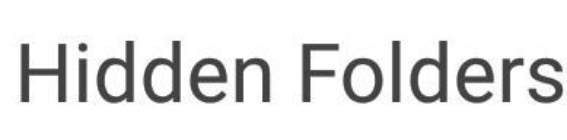TextView: (1, 1, 566, 139)
